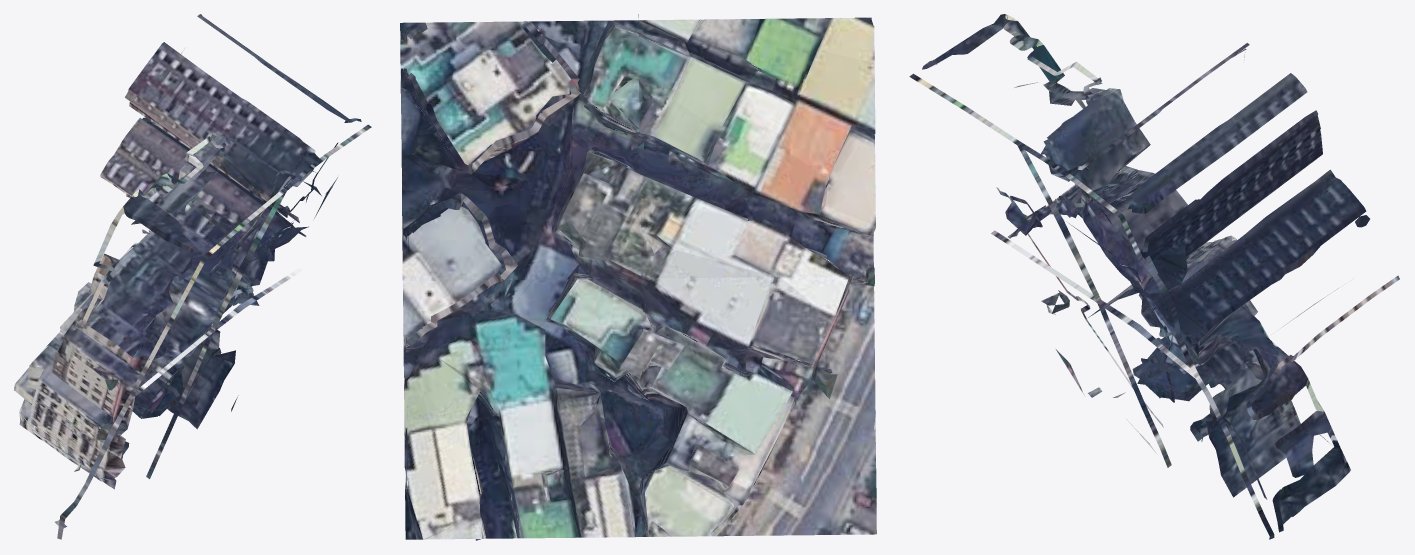
The picture shows the model from 3 angles, left to right: view 1: azimuth 30°, elevation 25°; view 2: azimuth 150°, elevation 25°; view 3: azimuth 270°, elevation 25°; orthographic projection. The views are drawn at different scales.
Size of the model in its own units: 76.41 by 86.99 by 85.69.
2 materials, 2 textured.
